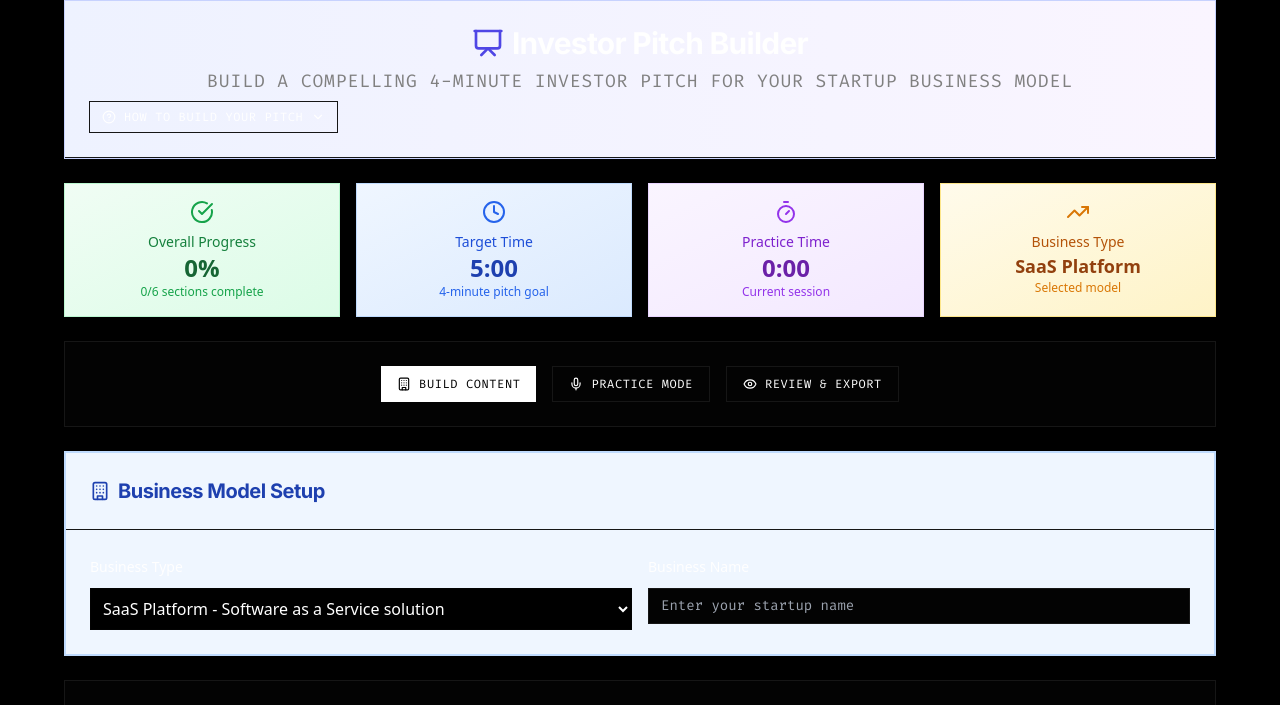
Test: PitchPresentationBuilder › starts and pauses practice timer
// Switch to practice mode
Click the button "Practice Mode" at (631, 384), box [552,366,710,402]
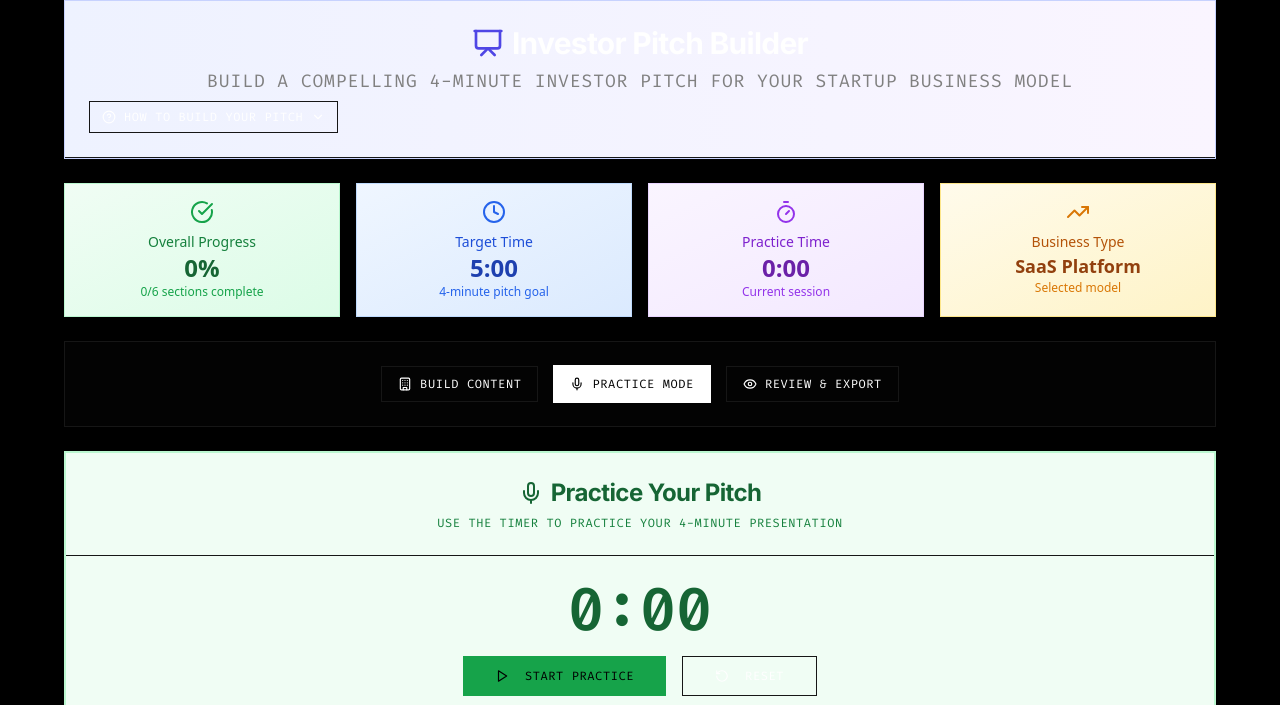
Check: the text "0:00" below "Practice Time" is shown, box [762,251,810,284]
Check: the text "Practice Your Pitch" is shown, box [519,478,761,507]
// Start timer - just verify button clicks work
Click the button "Start Practice" at (564, 676), box [463,656,666,696]
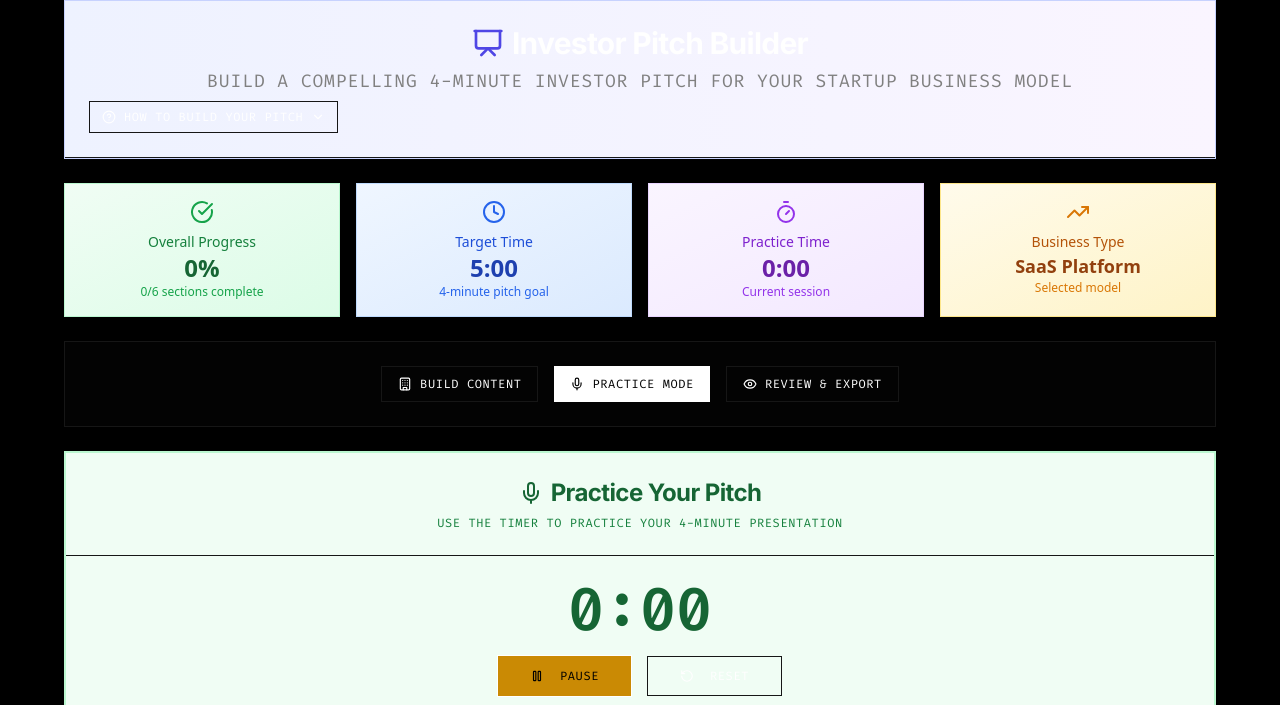
Check: the button "Pause" is shown, box [498,656,631,696]
